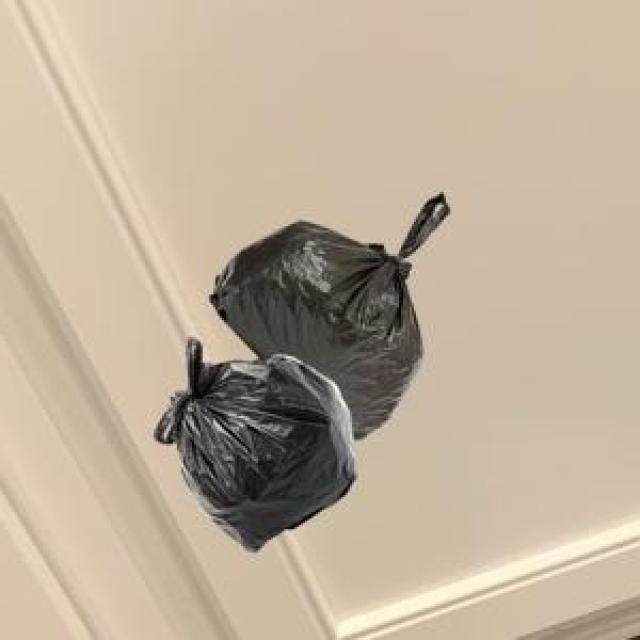Trashbag: (174, 354, 366, 560), (214, 220, 435, 398)
